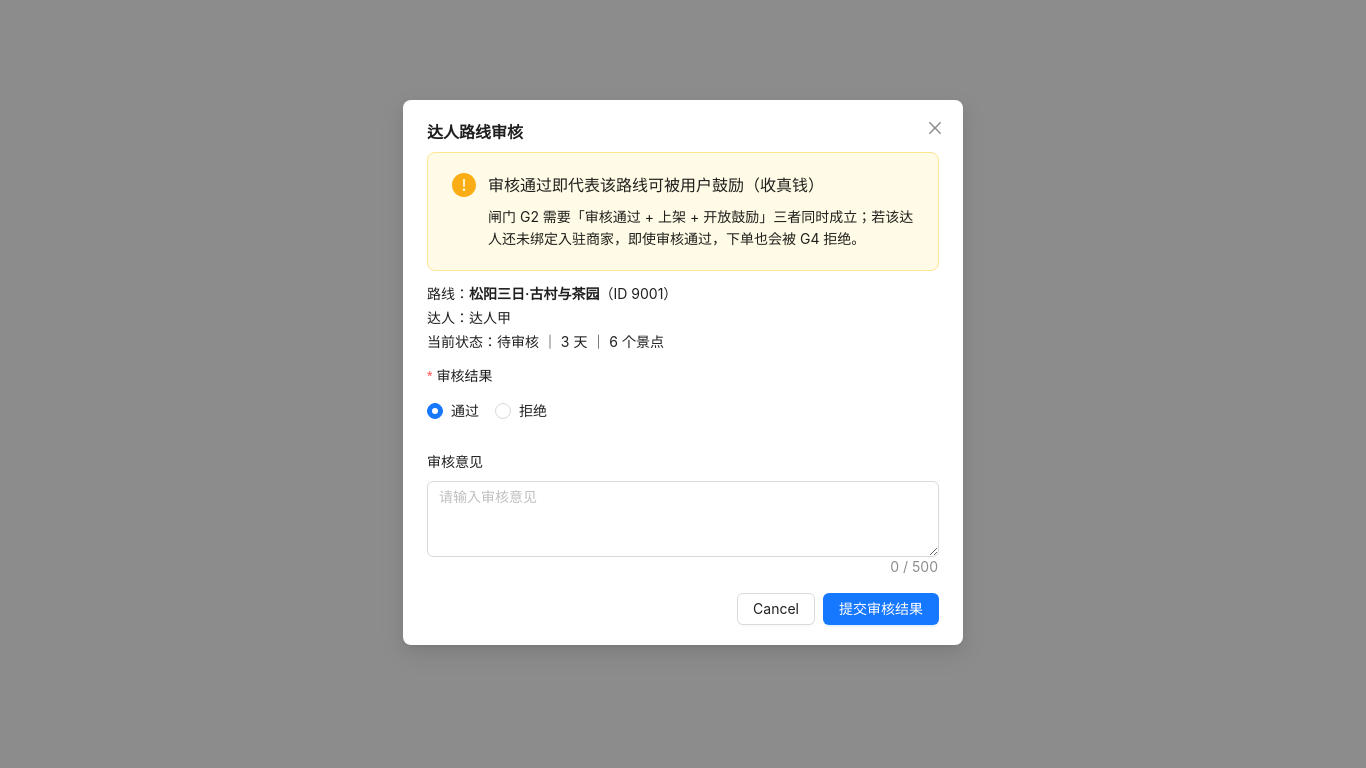
Scenario: 达人路线审核弹窗 · 报错必须显示后端原文 › 后端真的炸了（HTTP 502 且响应体不是 JSON）才用通用文案，且不泄漏英文 axios 文本
Step 1. Click the button "提交审核结果" → click(881, 609), box [823,593,939,625]
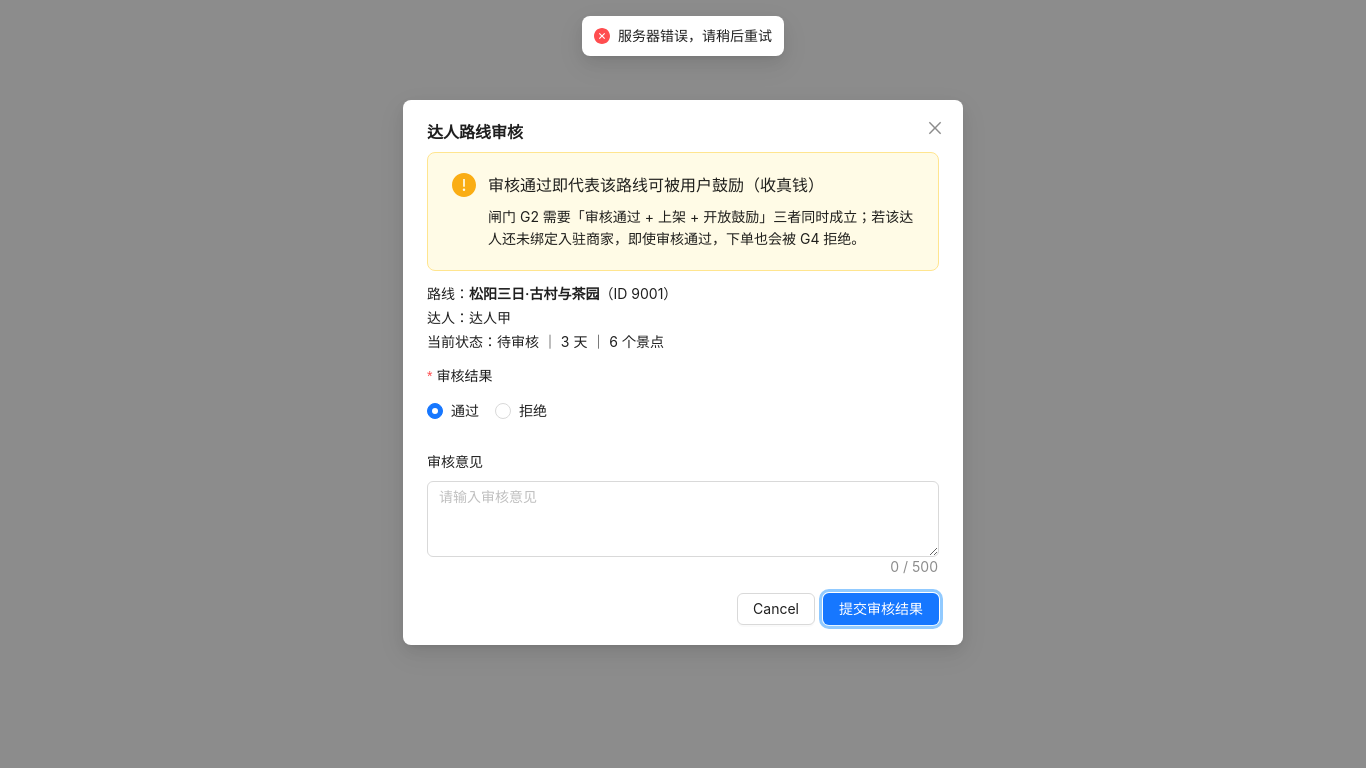
Expected: the text "服务器错误，请稍后重试" is shown, [618,25,772,47]
